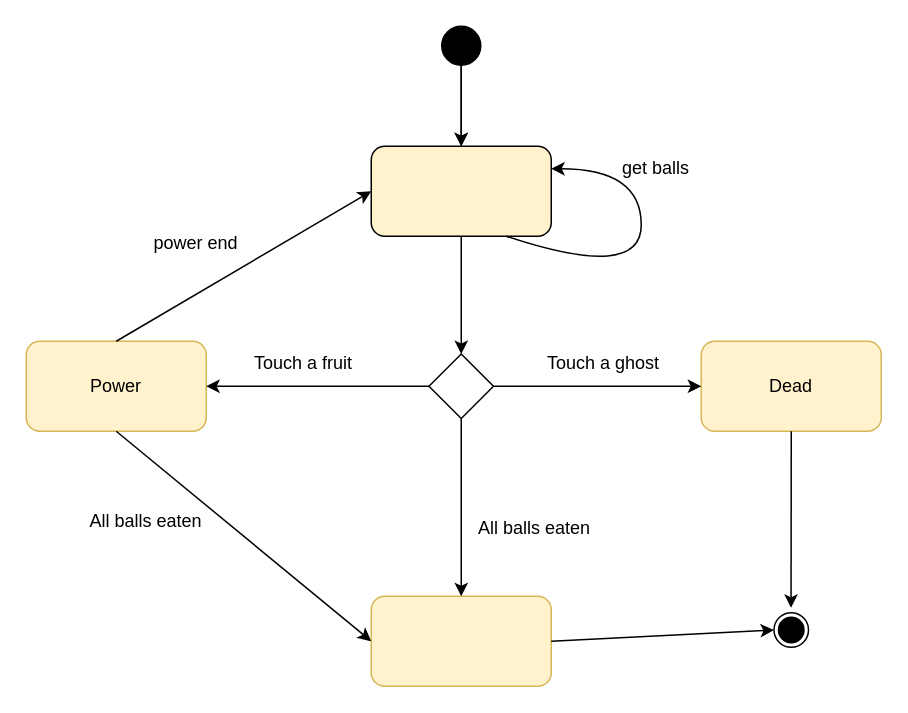
The diagram is 908 pixels wide and 713 high, and some of its shapes have lost their labels. The shapes that lost their labels are listed below. From the top down, each one's box as (x1, y1, x2, y2) in pixels, then its label:
(370, 145, 551, 236): Walking
(370, 595, 551, 686): Win
